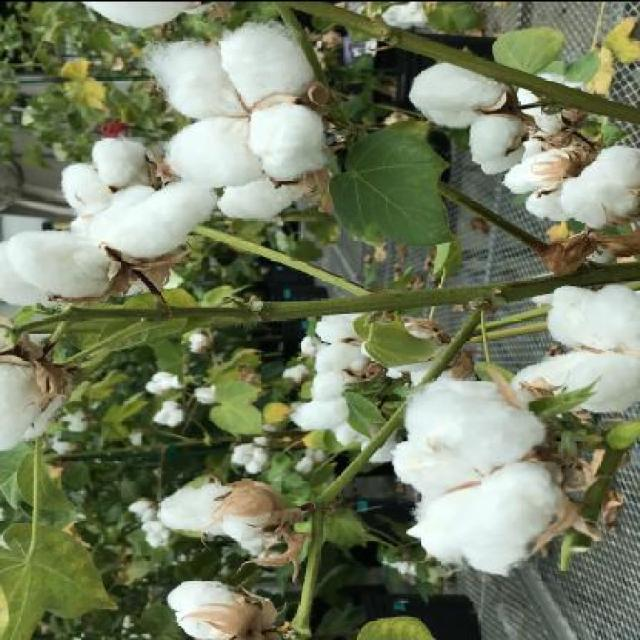cotton_ready: (379, 370, 575, 579), (532, 144, 639, 442), (36, 142, 209, 313), (392, 34, 553, 212), (148, 462, 306, 640), (162, 38, 346, 182), (269, 302, 448, 450)
